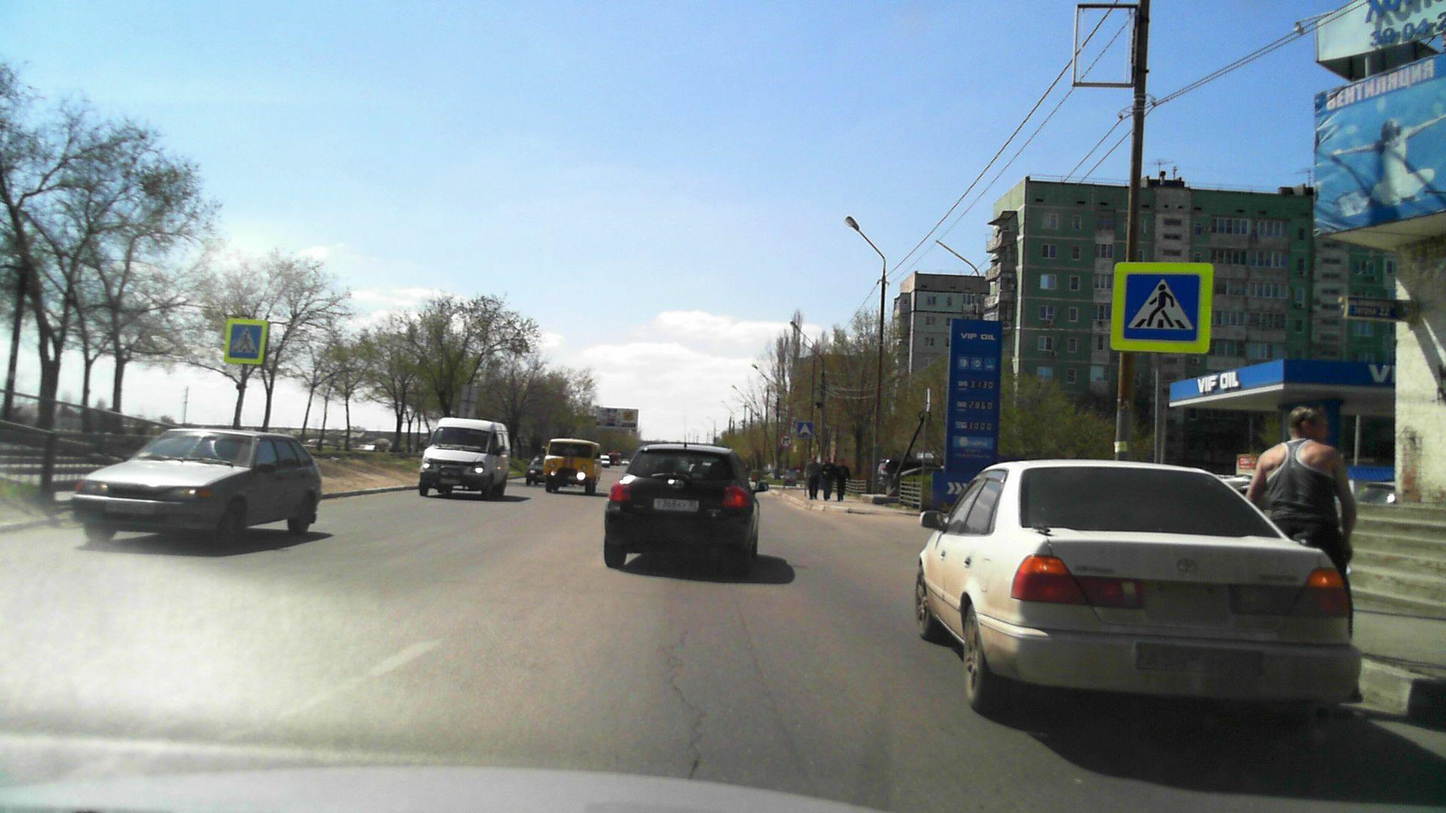road_sign: (1115, 264, 1210, 351), (225, 318, 267, 361), (796, 421, 814, 438)
